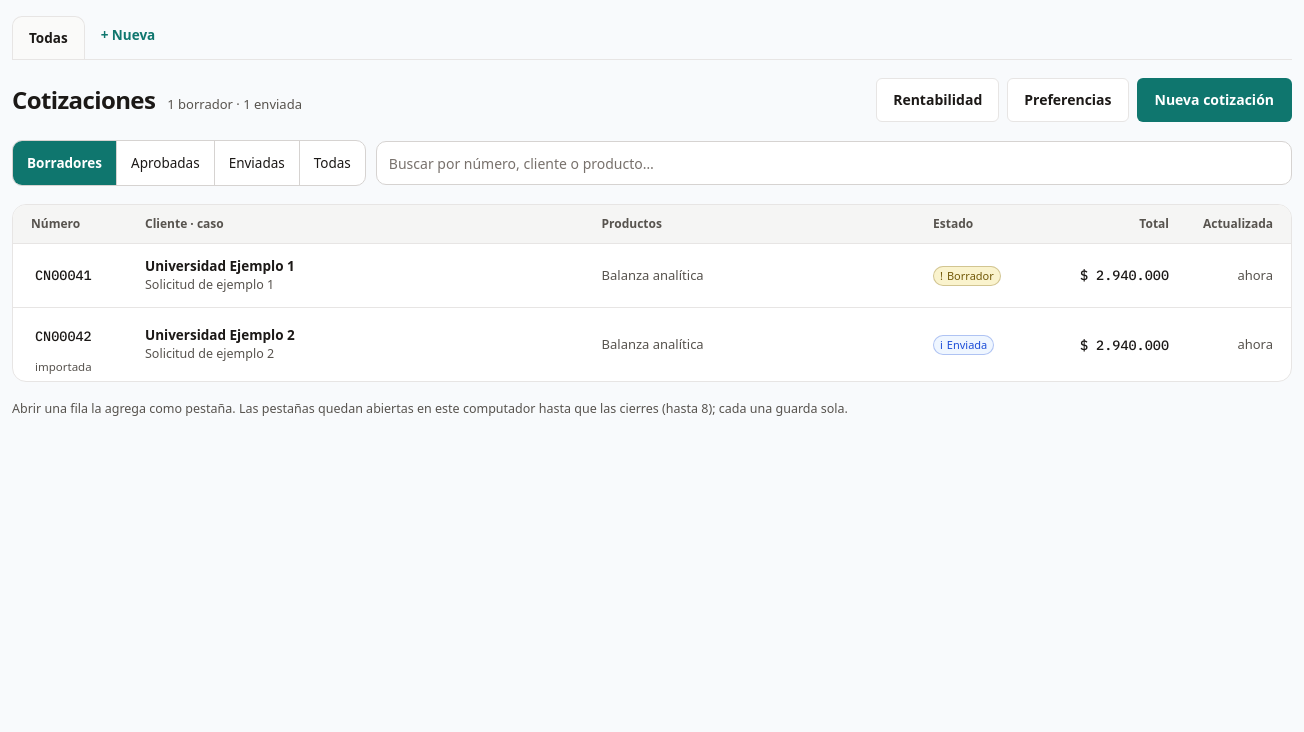
Test: Cotizador module — «Todas» › opens an imported quote with nothing to edit
The image size is (1304, 732).
expect the text "importada" is shown: met, box 35,359 -> 92,374
Click the button "CN00042": [63, 336] box 31,314 -> 96,358
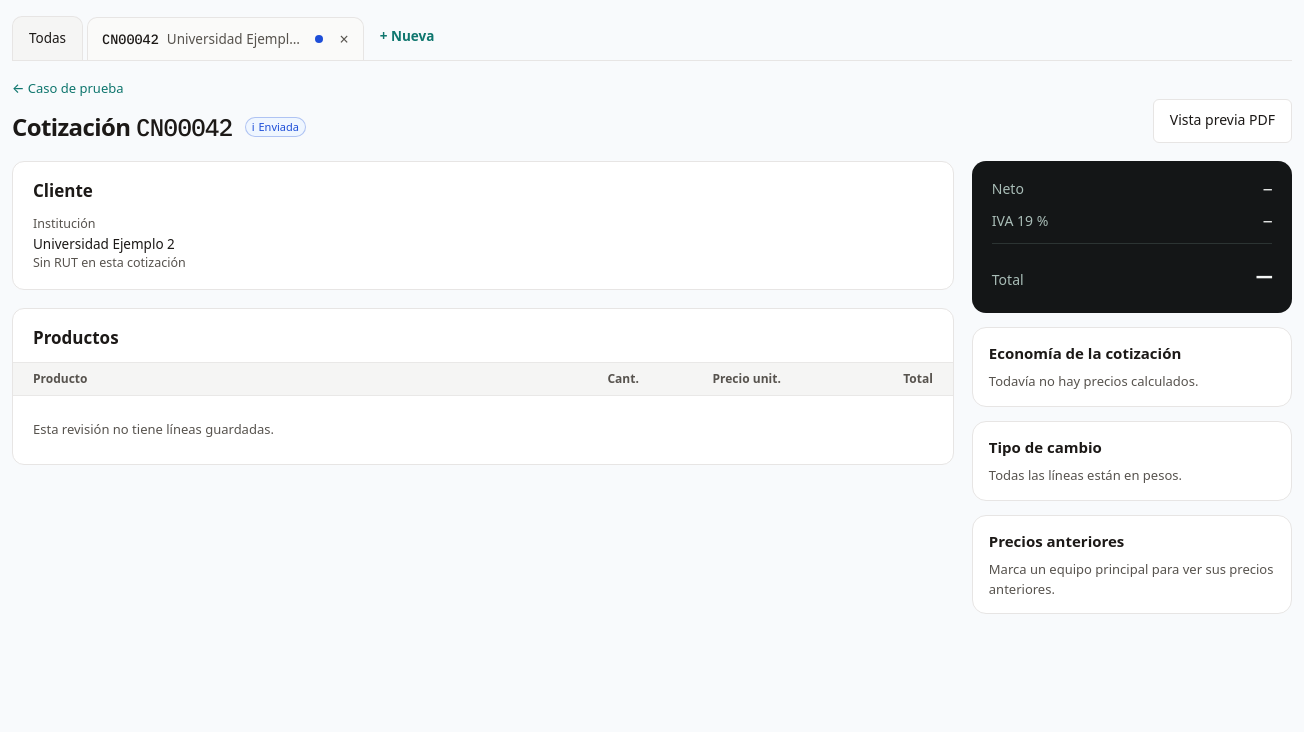
expect the tab "CN00042 Universidad Ejemplo 2" is shown: met, box 87,17 -> 364,60
expect the heading "Cotización CN00042" is shown: met, box 12,110 -> 233,142
expect the text "Esta revisión no tiene líneas guardadas." is shown: met, box 33,420 -> 274,438
